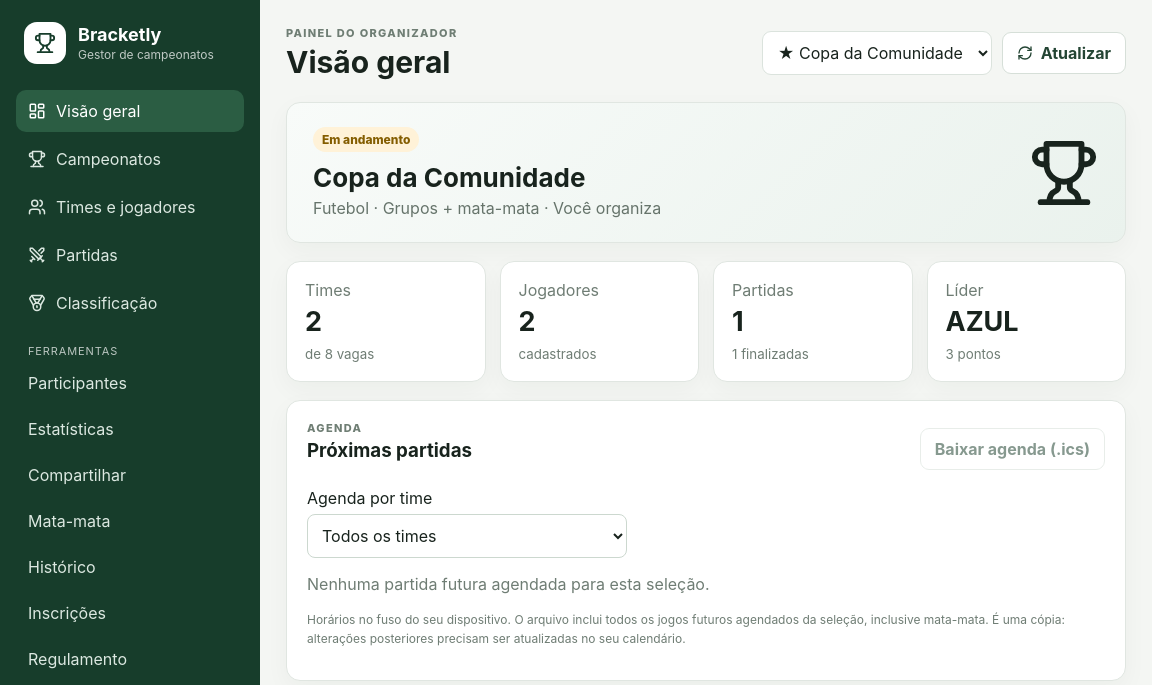
busca jogadores por 7
Expected: the heading "Copa da Comunidade" is shown, x1=313 y1=162 x2=585 y2=193
Click the button "Times e jogadores" at (130, 207), box x1=16 y1=186 x2=244 y2=228
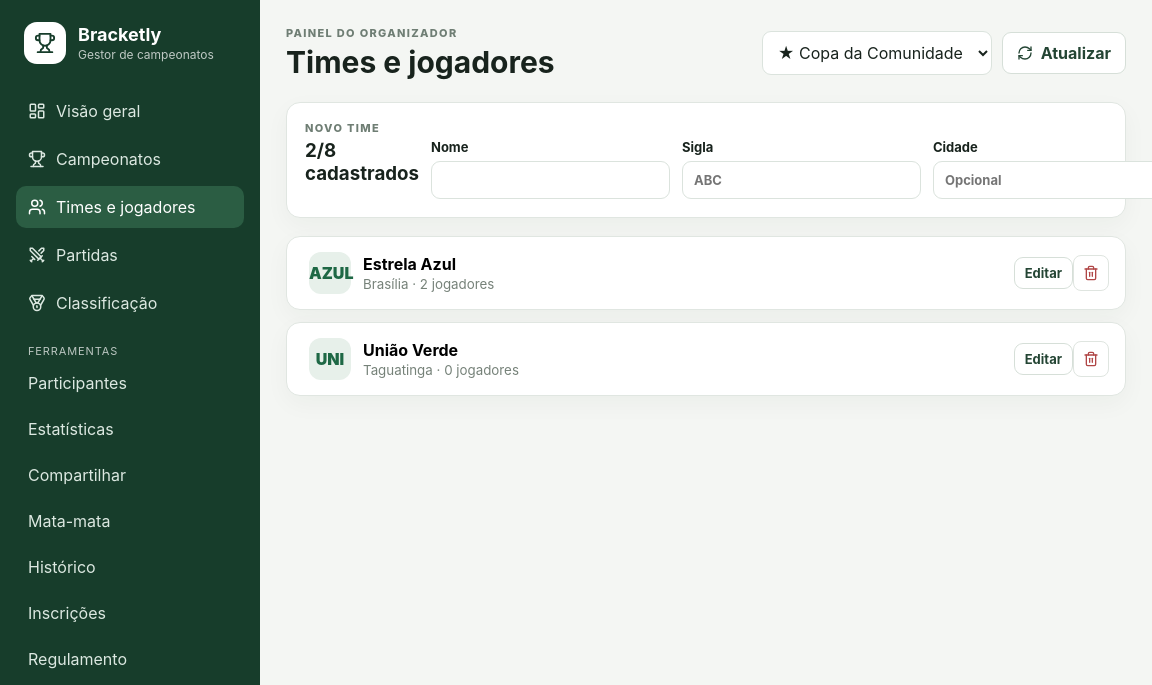
Click the button "AZUL Estrela Azul Brasília · 2 jogadores" at (330, 273), box x1=303 y1=251 x2=1014 y2=295
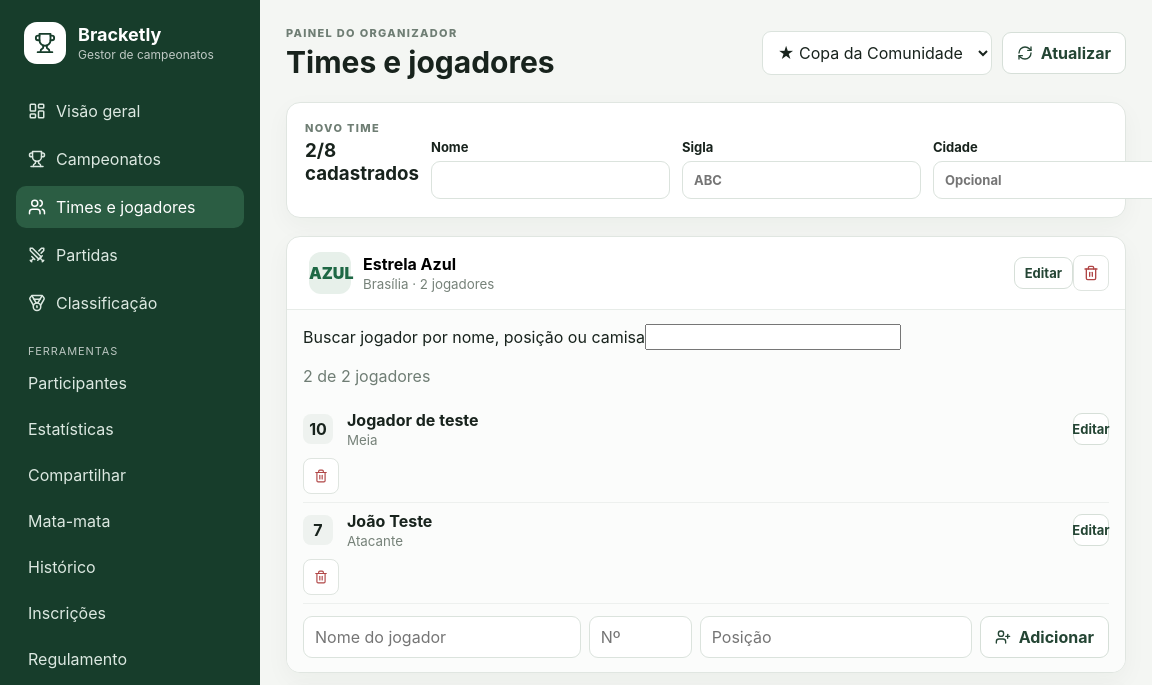
Type "7" into the search field at (773, 337), box x1=645 y1=324 x2=901 y2=350
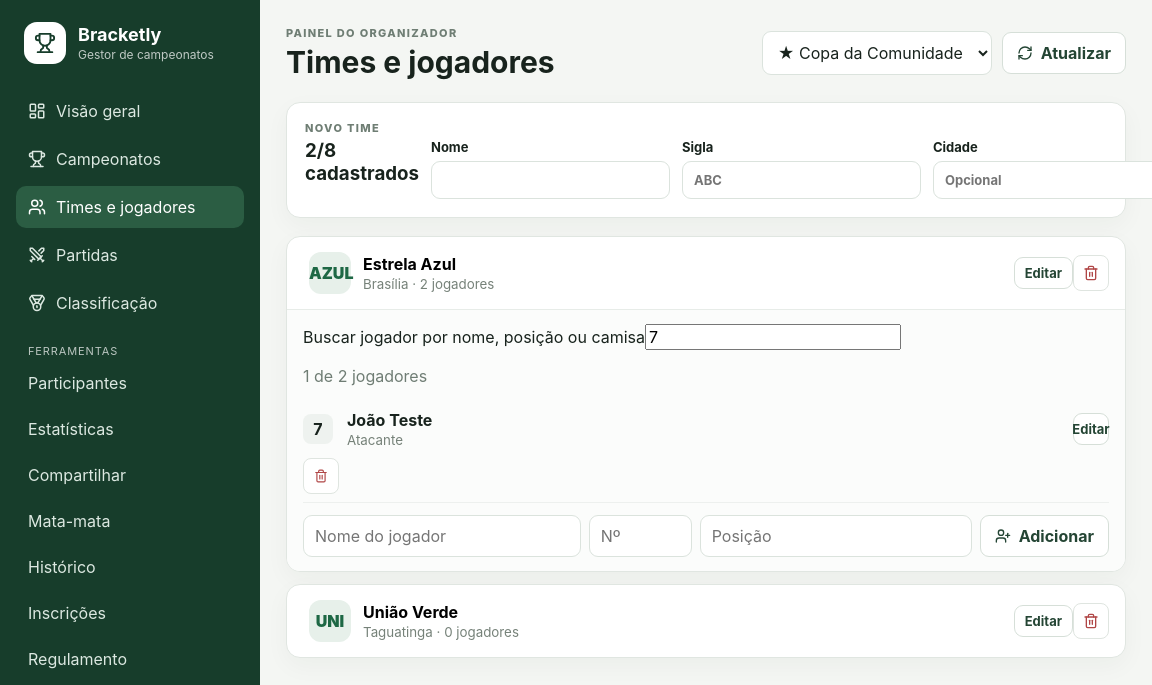
Expected: the text "João Teste" is shown, x1=347 y1=410 x2=432 y2=430
Expected: the text "Jogador de teste" is gone
Expected: the message reads "1 de 2 jogadores", x1=303 y1=366 x2=427 y2=386
